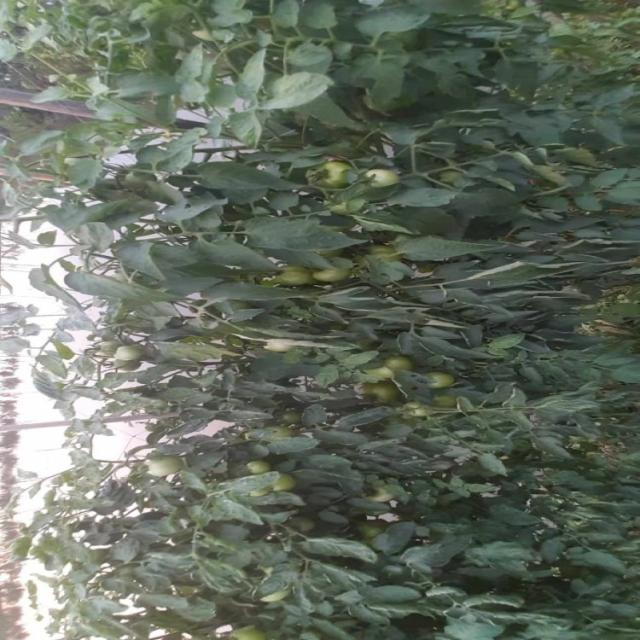tomato: (353, 159, 403, 196), (351, 372, 391, 415), (312, 149, 340, 204), (271, 265, 309, 294), (308, 258, 340, 288), (110, 338, 138, 371), (139, 454, 170, 480)
